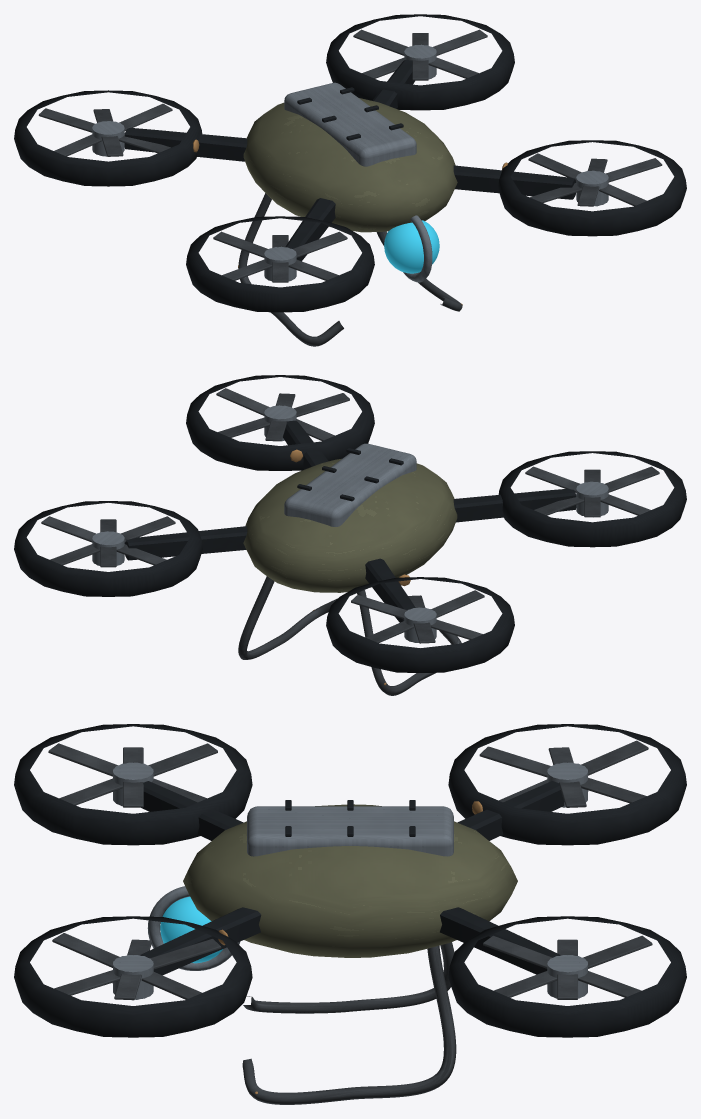
The model's file is combat-drone.lod1.glb.
The picture shows the model from 3 angles, top to bottom: view 1: azimuth 30°, elevation 25°; view 2: azimuth 150°, elevation 25°; view 3: azimuth 270°, elevation 25°; orthographic projection. The views are drawn at different scales.
Visible parts, largest first — view 1: polymer / stippled polymer, ceramic / ceramic composite panel, darksteel / oil-blackened fittings, alloy / machined anodized alloy, crystal / faceted crystal; view 2: polymer / stippled polymer, ceramic / ceramic composite panel, darksteel / oil-blackened fittings, alloy / machined anodized alloy; view 3: polymer / stippled polymer, ceramic / ceramic composite panel, darksteel / oil-blackened fittings, alloy / machined anodized alloy, crystal / faceted crystal.
Boxes of the visible parts, <box> form: polymer / stippled polymer: <box>14,14,686,312</box>; ceramic / ceramic composite panel: <box>243,98,457,232</box>; darksteel / oil-blackened fittings: <box>38,29,662,346</box>; alloy / machined anodized alloy: <box>92,44,608,282</box>; crystal / faceted crystal: <box>384,220,439,273</box>; polymer / stippled polymer: <box>14,375,686,672</box>; ceramic / ceramic composite panel: <box>243,458,457,592</box>; darksteel / oil-blackened fittings: <box>41,388,659,695</box>; alloy / machined anodized alloy: <box>92,405,608,642</box>; polymer / stippled polymer: <box>14,724,686,1037</box>; ceramic / ceramic composite panel: <box>183,804,517,957</box>; darksteel / oil-blackened fittings: <box>48,740,652,1104</box>; alloy / machined anodized alloy: <box>112,762,588,999</box>; crystal / faceted crystal: <box>160,896,222,963</box>.
Bounding box in the file's own units: 0.6707 × 0.2585 × 0.6507.
Materials: 6 (4 with a texture image).
